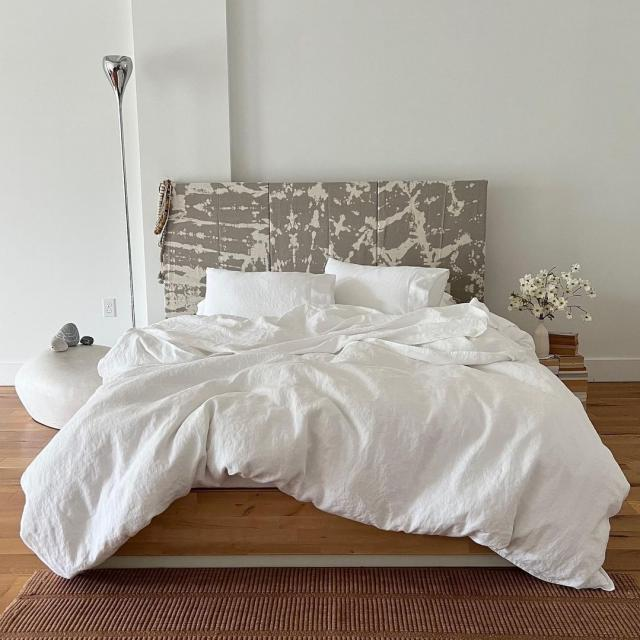bed: (19, 259, 632, 592)
